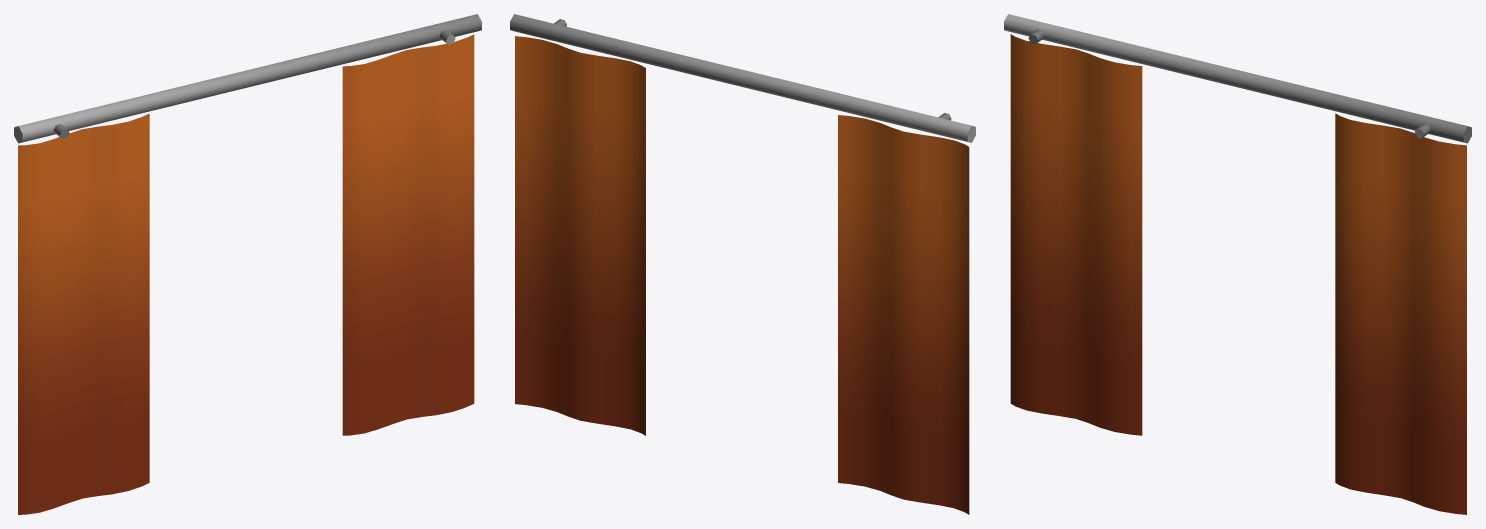
The model's file is Curtain.FBX.
3 views of the same model, side by side, from view 1: azimuth 30°, elevation 25°; view 2: azimuth 150°, elevation 25°; view 3: azimuth 330°, elevation 25° (orthographic).
Visible parts, largest first — view 1: curtain; view 2: curtain; view 3: curtain.
Part boxes in pixels (x1=…): curtain: x1=14, y1=14, x2=481, y2=514; curtain: x1=510, y1=14, x2=975, y2=514; curtain: x1=1004, y1=14, x2=1471, y2=514.
Size of the model in its own units: 220 by 179 by 12.4.
Materials: 1 (1 with a texture image).
